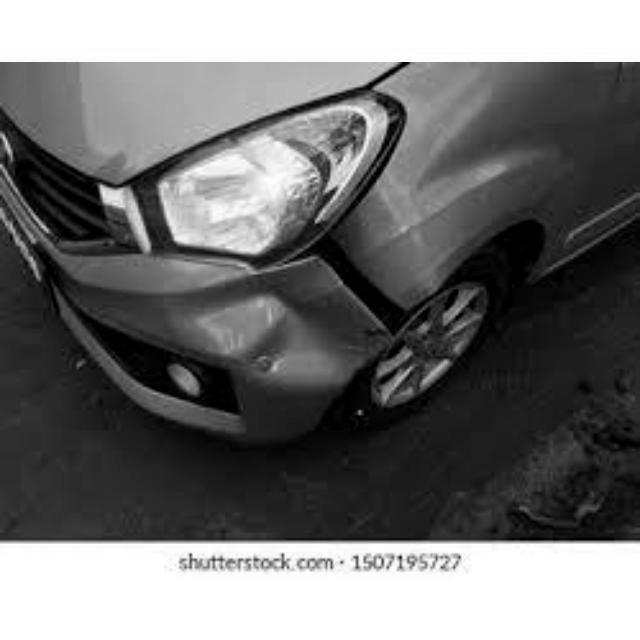fender-dent: (339, 61, 638, 327)
front-bumper-dent: (57, 238, 410, 445)
